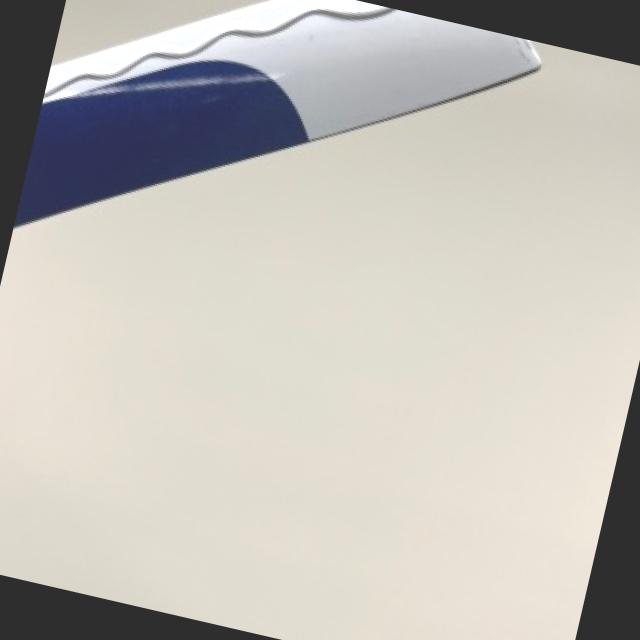healthy: (14, 0, 539, 223)
